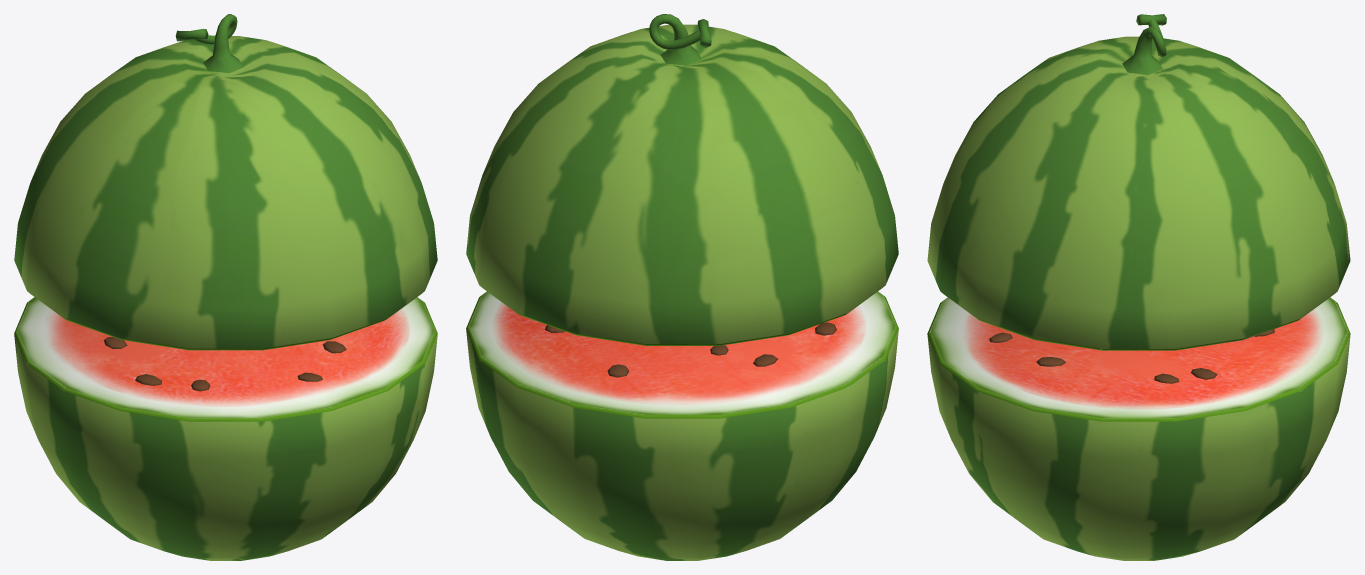
File: WertermelonCut.fbx
The picture shows the model from 3 angles, left to right: view 1: azimuth 30°, elevation 25°; view 2: azimuth 150°, elevation 25°; view 3: azimuth 270°, elevation 25°; orthographic projection. The views are drawn at different scales.
Visible parts, largest first — view 1: wertermelonCutTop, wertermelonCutBottom; view 2: wertermelonCutTop, wertermelonCutBottom; view 3: wertermelonCutTop, wertermelonCutBottom.
Part boxes in pixels (x1,y1,x2,y2): wertermelonCutTop: (14, 14, 437, 350); wertermelonCutBottom: (14, 297, 437, 560); wertermelonCutTop: (466, 14, 898, 345); wertermelonCutBottom: (466, 291, 898, 560); wertermelonCutTop: (927, 14, 1350, 350); wertermelonCutBottom: (927, 297, 1350, 560).
Size of the model in its own units: 197 by 266 by 200.
